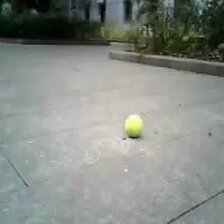tennis: (125, 116, 144, 138)
